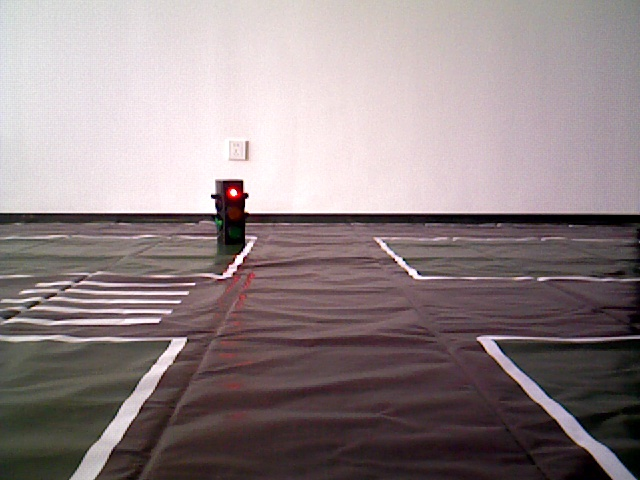red: (217, 183, 243, 246)
